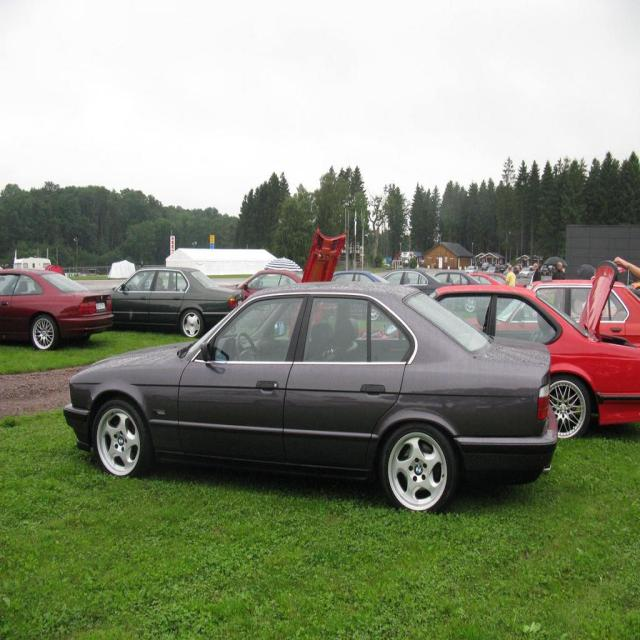car: (59, 273, 574, 514)
